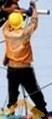boots: (0, 52, 8, 60), (0, 10, 6, 19)
gloves: (24, 1, 35, 17)
hard-hat: (7, 12, 24, 30)
vest: (2, 20, 34, 70)
